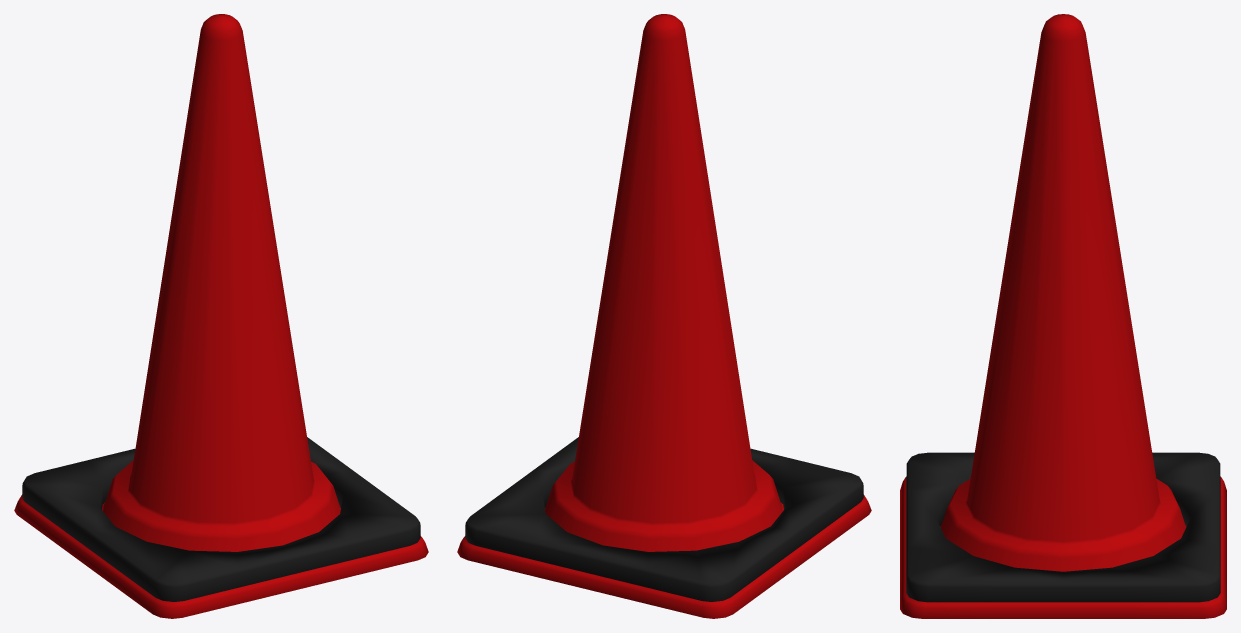
Rendered from colorcorn_only.fbx.
3 views of the same model, side by side, from view 1: azimuth 30°, elevation 25°; view 2: azimuth 150°, elevation 25°; view 3: azimuth 270°, elevation 25° (orthographic). The views are drawn at different scales.
Parts seen in each view (by area): view 1: color corn, colorcorn weight; view 2: color corn, colorcorn weight; view 3: color corn, colorcorn weight.
Part boxes in pixels (x1,y1,x2,y2): color corn: (14,14,428,618); colorcorn weight: (22,437,420,601); color corn: (457,14,871,618); colorcorn weight: (465,437,863,601); color corn: (900,14,1226,618); colorcorn weight: (906,452,1220,602).
Size of the model in its own units: 279 by 502 by 279.
